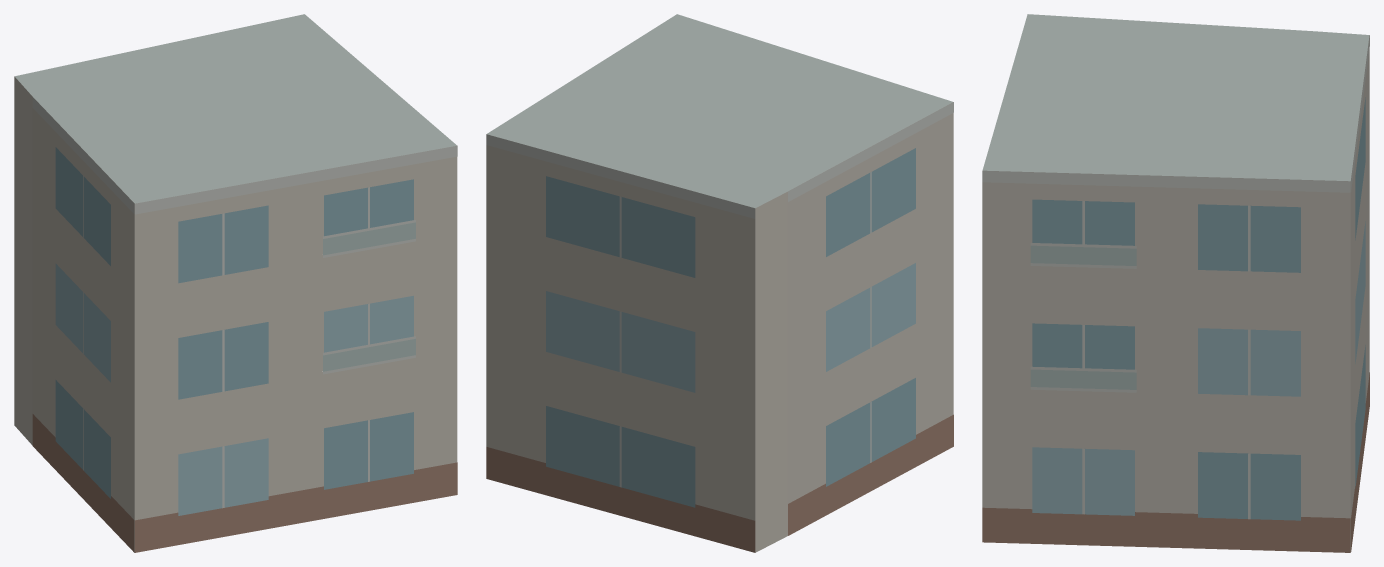
File: survey-upis-32503429.glb
The picture shows the model from 3 angles, left to right: view 1: azimuth 30°, elevation 25°; view 2: azimuth 150°, elevation 25°; view 3: azimuth 270°, elevation 25°; orthographic projection. The views are drawn at different scales.
Parts seen in each view (by area): view 1: survey-upis-32503429.tmp; view 2: survey-upis-32503429.tmp; view 3: survey-upis-32503429.tmp.
Part boxes in pixels (bbox=[...]): survey-upis-32503429.tmp: bbox=[14, 14, 457, 552]; survey-upis-32503429.tmp: bbox=[486, 14, 953, 552]; survey-upis-32503429.tmp: bbox=[982, 14, 1369, 552].
Size of the model in its own units: 7.53 by 7.8 by 7.38.
